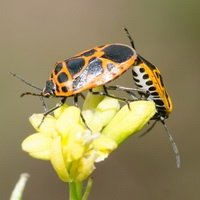insect: (132, 54, 179, 167), (42, 43, 136, 96)
